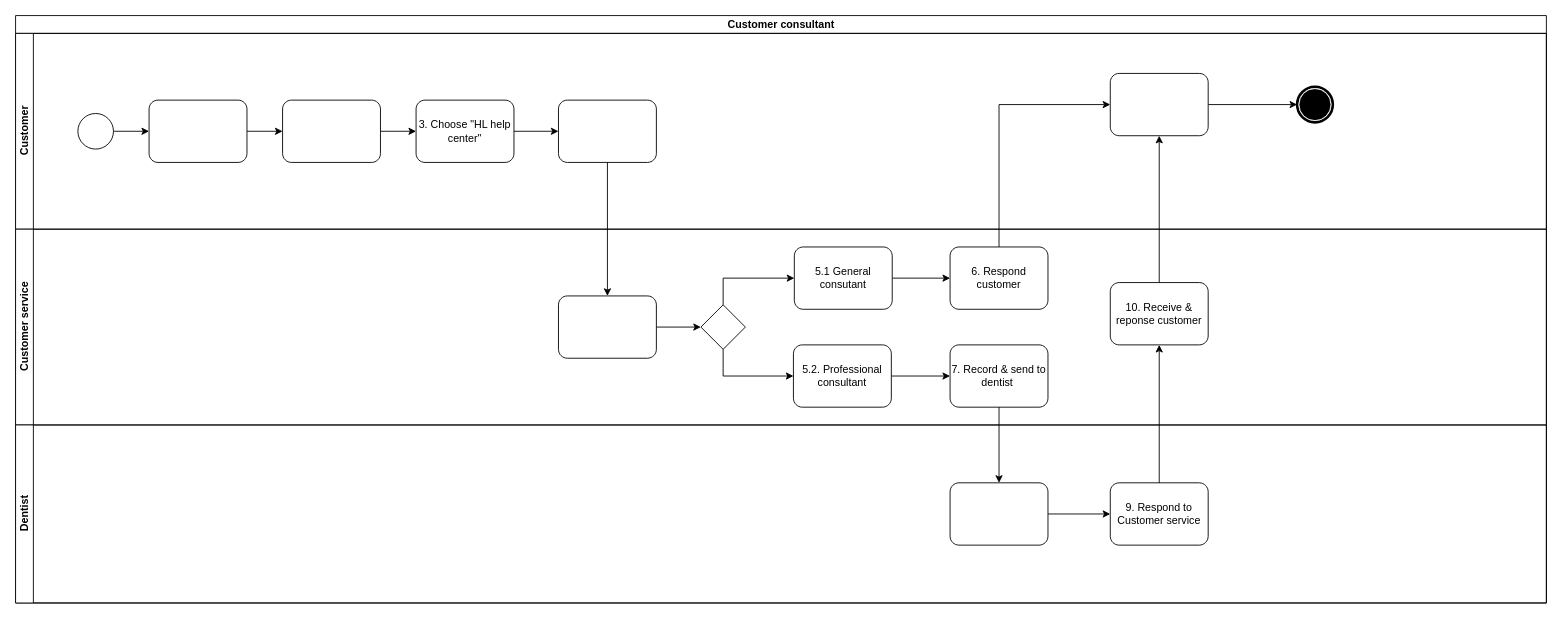
This 1562x619 diagram has some shape labels left out. The box of each missing label's shape, as (x1, y1, x2, y2) in pixels:
1. Go to app: (148, 99, 247, 162)
11. Receive consultant: (1109, 73, 1208, 136)
2. Login: (282, 99, 380, 162)
4. Choose Chat/Call hotline: (558, 99, 656, 162)
5. Receive request: (558, 295, 656, 358)
8. Receive consultant information: (949, 482, 1048, 545)
